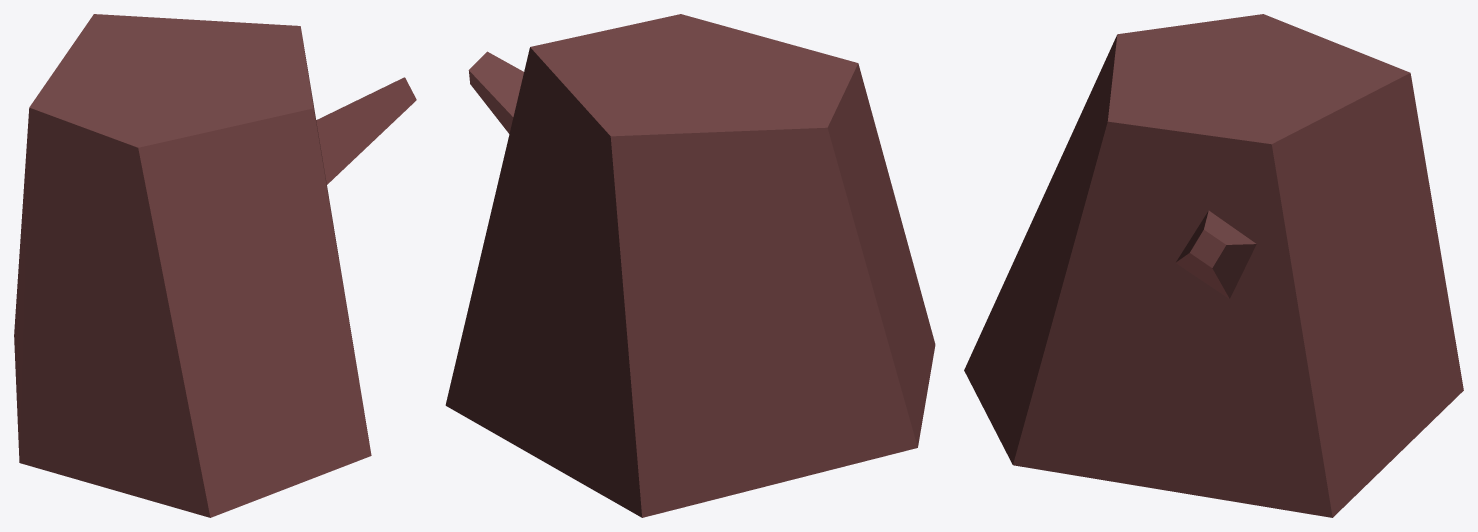
File: StumpAutumn1_Alt2.fbx
The picture shows the model from 3 angles, left to right: view 1: azimuth 30°, elevation 25°; view 2: azimuth 150°, elevation 25°; view 3: azimuth 270°, elevation 25°; orthographic projection. The views are drawn at different scales.
Visible parts, largest first — view 1: StumpAutumn1_Alt2; view 2: StumpAutumn1_Alt2; view 3: StumpAutumn1_Alt2.
Boxes of the visible parts, bbox=[...] form: StumpAutumn1_Alt2: bbox=[14, 14, 416, 517]; StumpAutumn1_Alt2: bbox=[445, 14, 935, 517]; StumpAutumn1_Alt2: bbox=[964, 14, 1463, 517].
Bounding box in the file's own units: 0.5186 × 0.3998 × 0.5206.
